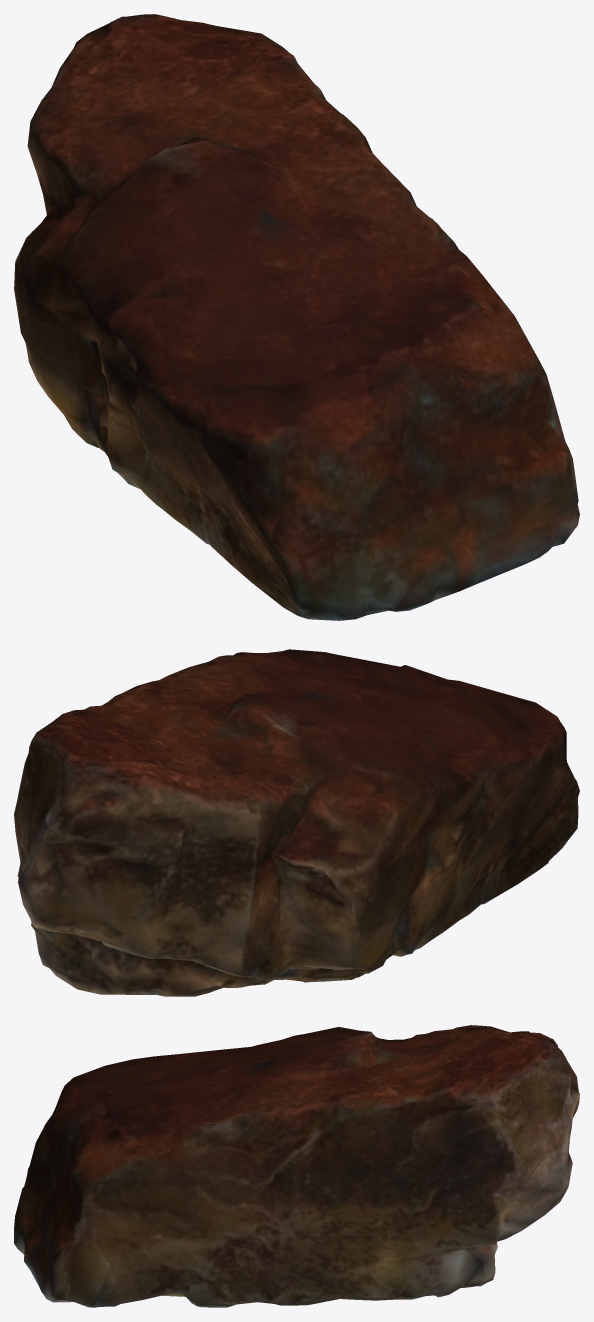
The model's file is rock_07.glb.
3 views of the same model, one above another, from view 1: azimuth 30°, elevation 25°; view 2: azimuth 150°, elevation 25°; view 3: azimuth 270°, elevation 25° (orthographic). The views are drawn at different scales.
Parts seen in each view (by area): view 1: rock_07; view 2: rock_07; view 3: rock_07.
Part boxes in pixels (x1=…): rock_07: x1=14, y1=14, x2=579, y2=620; rock_07: x1=14, y1=649, x2=579, y2=996; rock_07: x1=14, y1=1025, x2=579, y2=1307.
Bounding box in the file's own units: 0.1681 × 0.1437 × 0.3199.
1 material, 1 textured.
